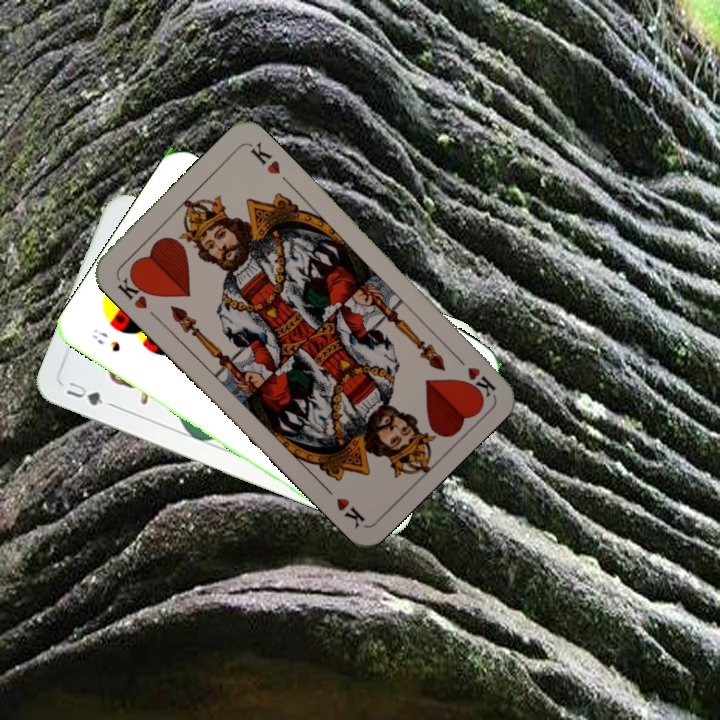GU: (62, 376, 106, 409)
HK: (449, 349, 499, 399), (113, 269, 154, 312)
S8: (87, 324, 123, 355)
